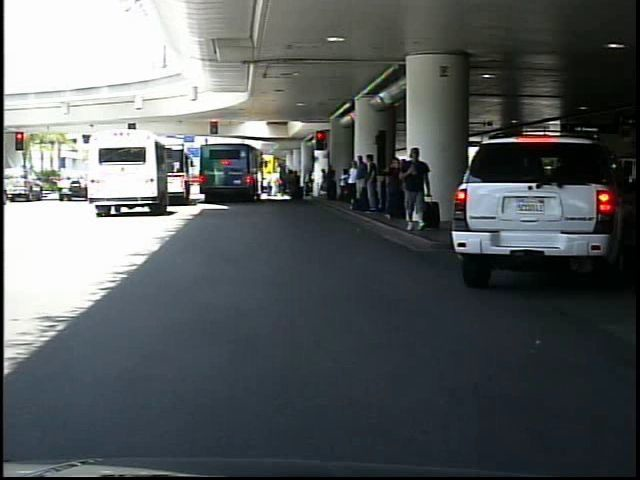person: (399, 146, 432, 236)
